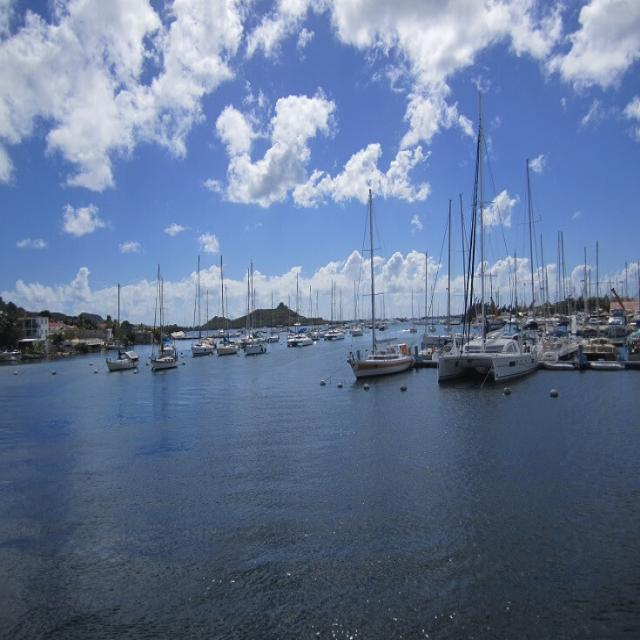houseboat: (349, 342, 425, 388), (444, 332, 524, 374), (103, 349, 134, 388), (236, 340, 268, 362), (144, 358, 185, 372), (196, 331, 212, 350)
